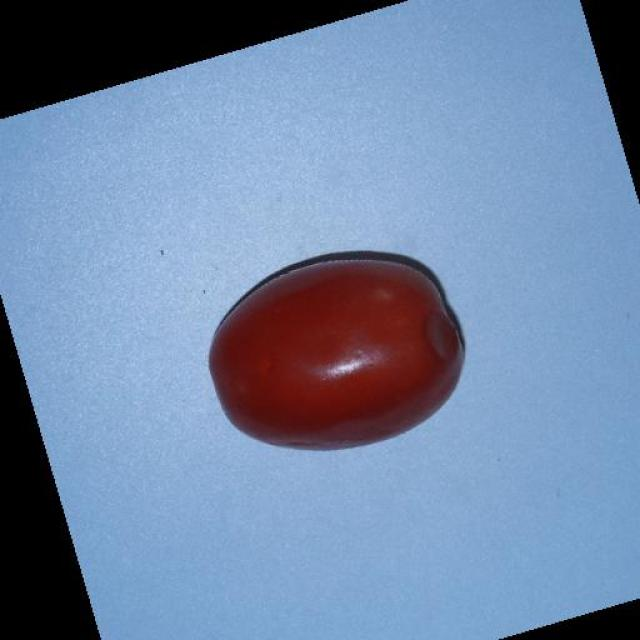Stale_tomato: (182, 250, 490, 477)
